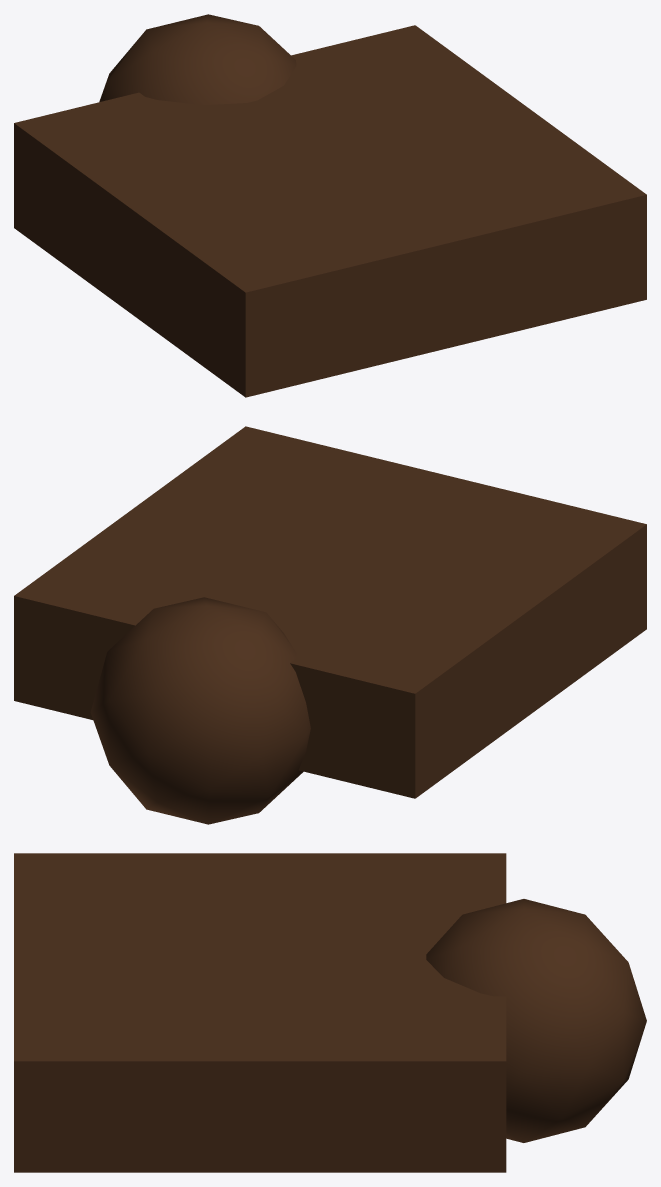
The model's file is hair_bun.glb.
The picture shows the model from 3 angles, top to bottom: view 1: azimuth 30°, elevation 25°; view 2: azimuth 150°, elevation 25°; view 3: azimuth 270°, elevation 25°; orthographic projection. The views are drawn at different scales.
Parts seen in each view (by area): view 1: hair_top, hair_bun; view 2: hair_top, hair_bun; view 3: hair_top, hair_bun.
Part boxes in pixels (box(x1,y1,x2,y2)): hair_top: box(14, 25, 646, 397); hair_bun: box(99, 14, 296, 105); hair_top: box(14, 426, 646, 798); hair_bun: box(90, 597, 310, 824); hair_top: box(14, 853, 506, 1172); hair_bun: box(426, 899, 646, 1142).
Size of the model in its own units: 0.28 by 0.14 by 0.36.
